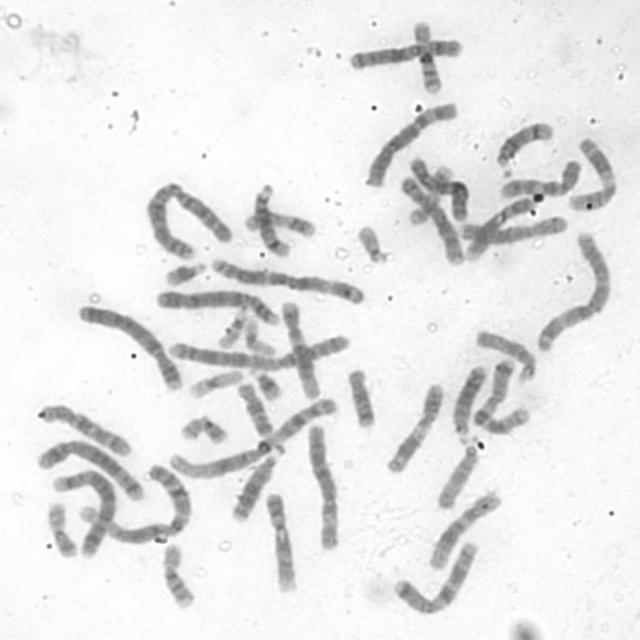A1: (168, 391, 342, 479), (71, 458, 196, 550)
A2: (164, 328, 355, 373), (140, 175, 234, 262)
A3: (531, 226, 617, 354), (206, 250, 367, 306)
B4: (72, 296, 186, 394), (149, 282, 284, 328)
B5: (34, 433, 148, 503), (47, 464, 120, 560)
C10: (33, 397, 136, 458), (494, 154, 584, 200)
C11: (382, 376, 448, 476), (563, 130, 621, 212)
C12: (423, 486, 502, 572), (276, 295, 324, 400)
C6: (361, 95, 462, 189), (304, 418, 344, 552)
C7: (389, 536, 484, 617), (470, 354, 533, 436)
C8: (396, 171, 465, 267), (456, 210, 573, 249)
C9: (461, 193, 539, 261), (260, 486, 300, 596)
D13: (227, 445, 283, 523), (448, 358, 492, 442)
D14: (248, 178, 296, 259), (490, 117, 555, 174)
D15: (470, 324, 540, 384), (433, 437, 483, 511)
E16: (408, 15, 446, 95), (157, 538, 199, 610)
E17: (403, 159, 456, 227), (239, 205, 319, 240)
E18: (232, 378, 278, 440), (342, 363, 379, 429)
F19: (184, 363, 247, 401), (239, 313, 278, 358)
F20: (41, 496, 80, 560), (176, 409, 232, 446)
G21: (246, 363, 286, 403), (159, 256, 208, 287)
G22: (212, 303, 251, 350), (353, 220, 391, 265)
X: (343, 32, 468, 72), (404, 152, 472, 224)
